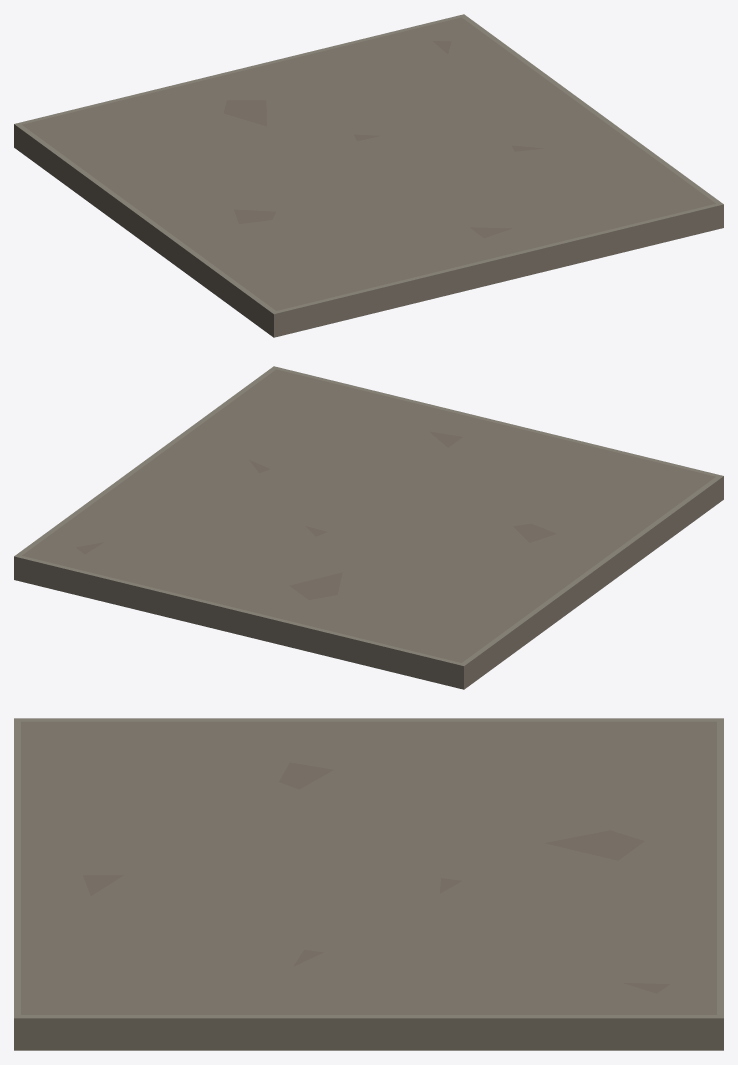
File: ConcrateSlabs_A_1_2.obj
3 views of the same model, one above another, from view 1: azimuth 30°, elevation 25°; view 2: azimuth 150°, elevation 25°; view 3: azimuth 270°, elevation 25° (orthographic). The views are drawn at different scales.
Parts seen in each view (by area): view 1: ConcrateSlabs_A_1_2; view 2: ConcrateSlabs_A_1_2; view 3: ConcrateSlabs_A_1_2.
Boxes of the visible parts, bbox=[...] form: ConcrateSlabs_A_1_2: bbox=[14, 14, 723, 337]; ConcrateSlabs_A_1_2: bbox=[14, 366, 723, 689]; ConcrateSlabs_A_1_2: bbox=[14, 718, 723, 1050].
Size of the model in its own units: 8 by 0.4 by 8.
